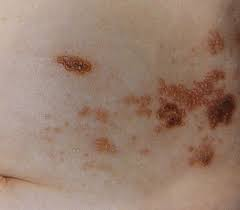herpes: (121, 46, 232, 175)
